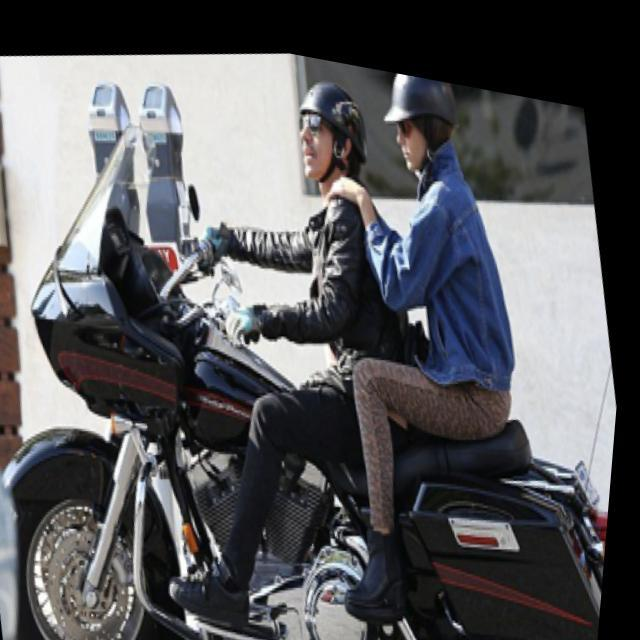Helmet: (382, 56, 467, 188), (293, 80, 368, 193)
